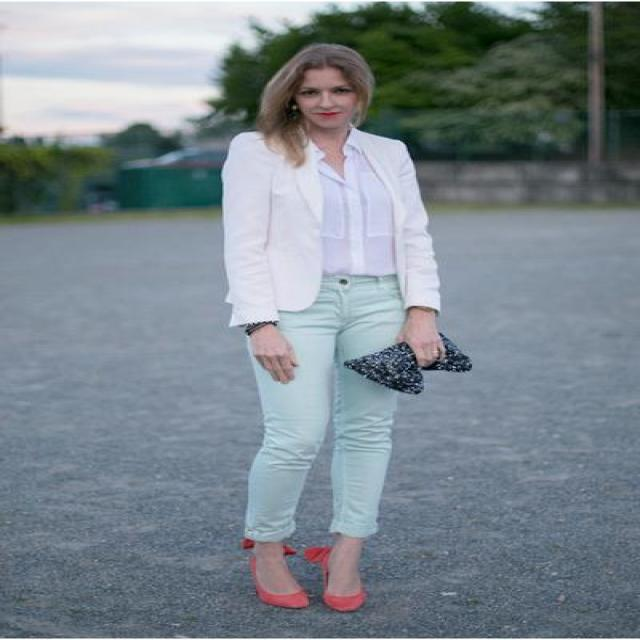jacket: (222, 128, 438, 325)
pants: (243, 269, 410, 541)
shirt: (294, 142, 394, 284)
shoe: (253, 341, 470, 609)
